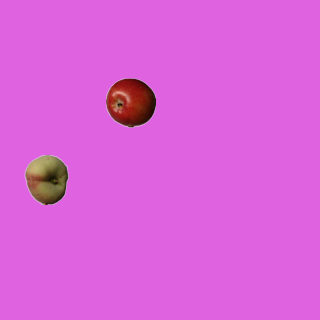Apple Braeburn: (105, 77, 155, 127)
Peach Flat: (21, 154, 71, 204)
